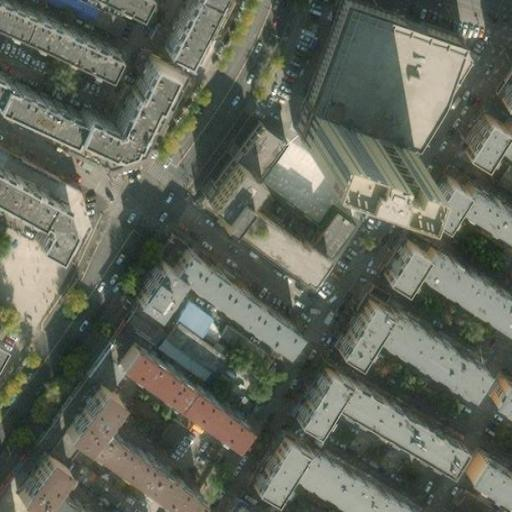building: (295, 0, 456, 142), (289, 367, 457, 475), (337, 308, 484, 406), (168, 242, 294, 342), (397, 240, 512, 342), (374, 164, 459, 274), (0, 0, 121, 70), (255, 449, 389, 512), (92, 444, 209, 512), (219, 198, 312, 276), (288, 115, 392, 179), (440, 181, 512, 254), (118, 354, 192, 418), (121, 57, 179, 136), (0, 167, 58, 245), (177, 397, 248, 459), (155, 318, 218, 377), (69, 406, 123, 471), (196, 163, 250, 224), (77, 109, 141, 154), (231, 125, 280, 180), (135, 257, 183, 311), (311, 209, 359, 263), (167, 0, 213, 51), (24, 473, 75, 512), (461, 111, 502, 157), (168, 296, 210, 334), (495, 64, 512, 113), (489, 127, 512, 163)
